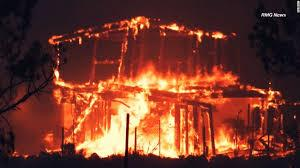fire: (11, 17, 292, 156)
